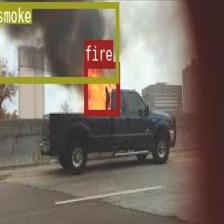fire: (84, 61, 119, 114)
smoke: (0, 1, 118, 81)
